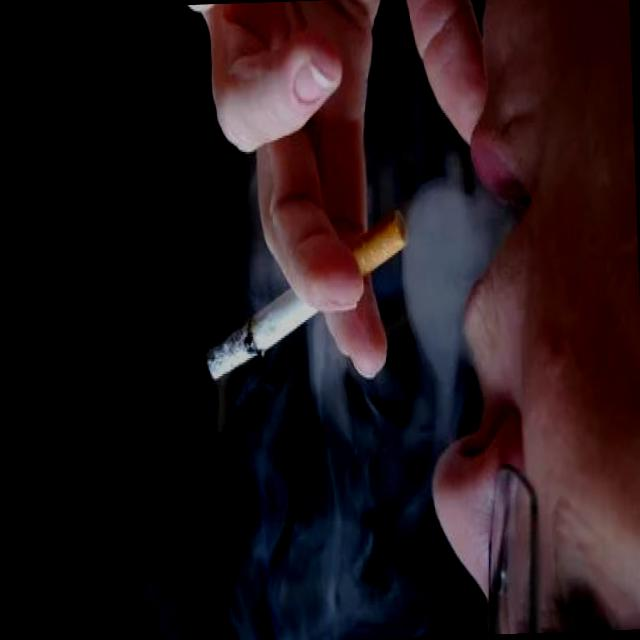cigarette: (196, 188, 417, 389)
